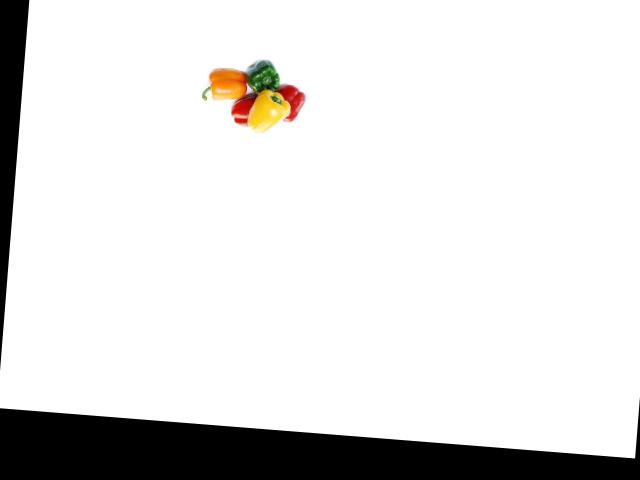bell_pepper: (242, 53, 289, 104)
